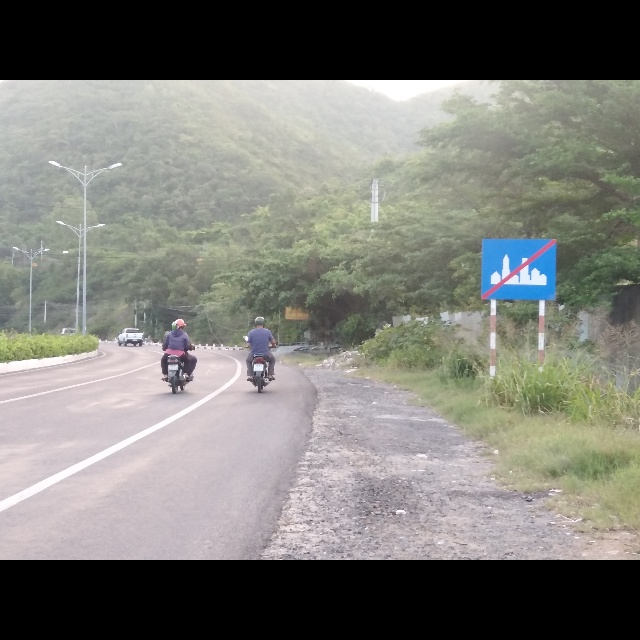Hết khu đông dân cư: (479, 236, 558, 303)
